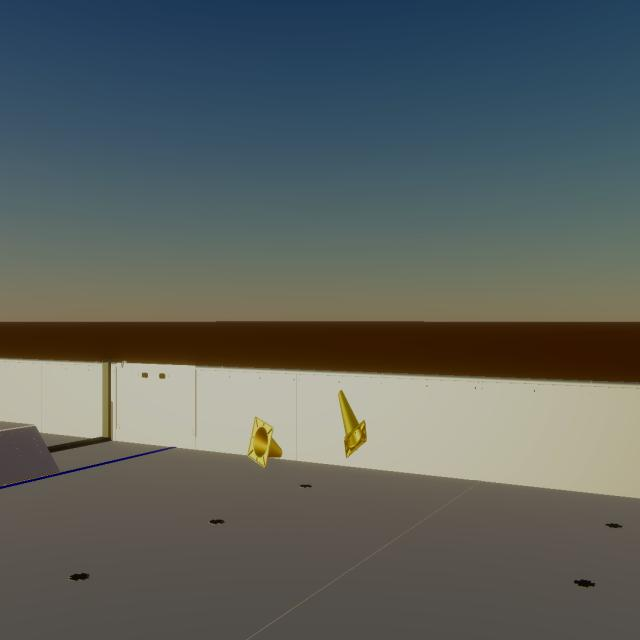frc_cone: (338, 390, 367, 458), (248, 416, 282, 468)
